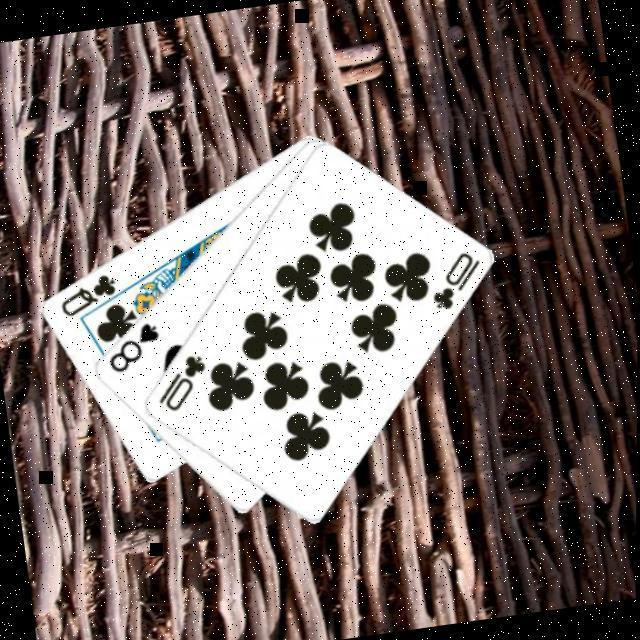10C: (425, 247, 491, 315), (152, 350, 217, 418)
8S: (102, 318, 168, 378)
QC: (56, 270, 126, 322)
